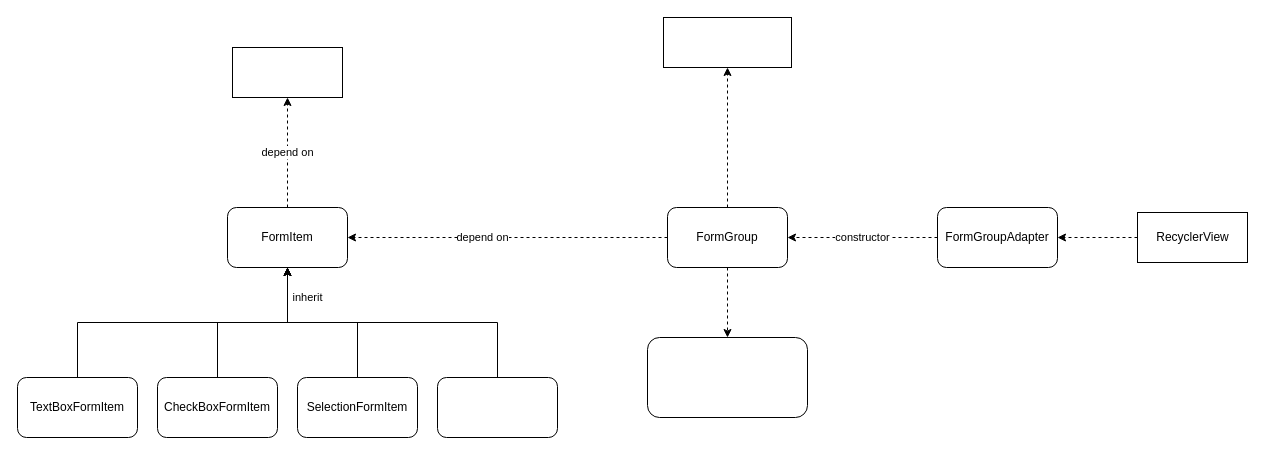
The diagram is 1265 pixels wide and 455 high, and some of its shapes have lost their labels. Each missing label, with the centre of its shape:
FormGroupDataSource (manager form item list): [727,377]
OtherFormItem: [497,407]
«interface» FormEntityBinding: [727,42]
«interface» FormValidation: [287,72]
